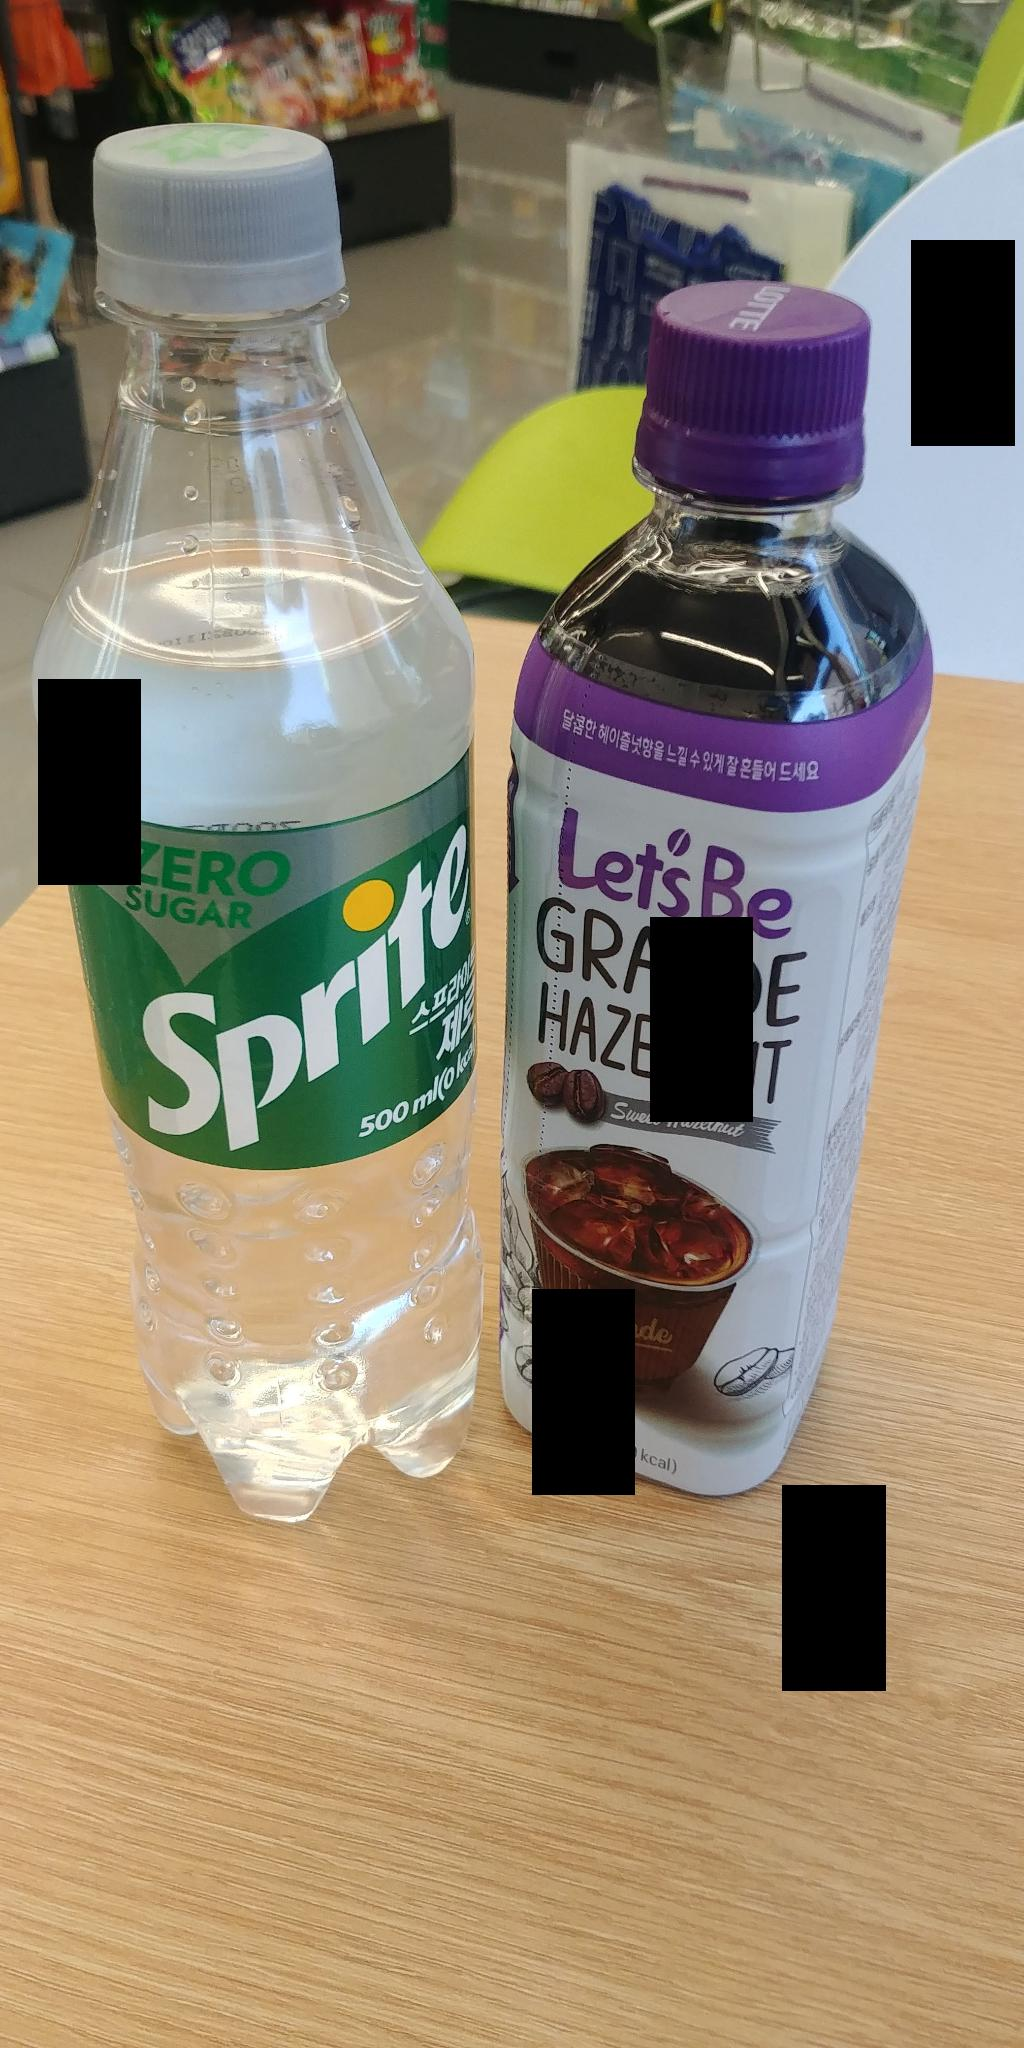letsbe_grande_hazelnut: (488, 270, 960, 1527)
sprite_zero: (31, 114, 498, 1546)
